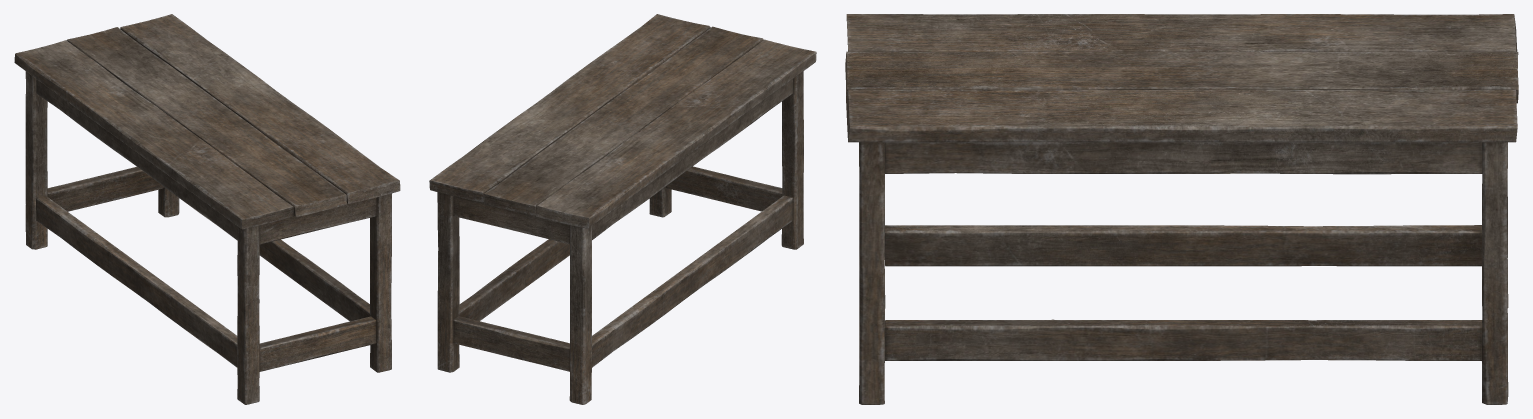
File: Ban.fbx
3 views of the same model, side by side, from view 1: azimuth 30°, elevation 25°; view 2: azimuth 150°, elevation 25°; view 3: azimuth 270°, elevation 25° (orthographic). The views are drawn at different scales.
Visible parts, largest first — view 1: Wooden table; view 2: Wooden table; view 3: Wooden table.
Part boxes in pixels (bbox=[...]): Wooden table: bbox=[14, 14, 400, 404]; Wooden table: bbox=[429, 14, 816, 404]; Wooden table: bbox=[845, 14, 1518, 404].
Size of the model in its own units: 63.89 by 73.13 by 159.
1 material, 1 textured.
